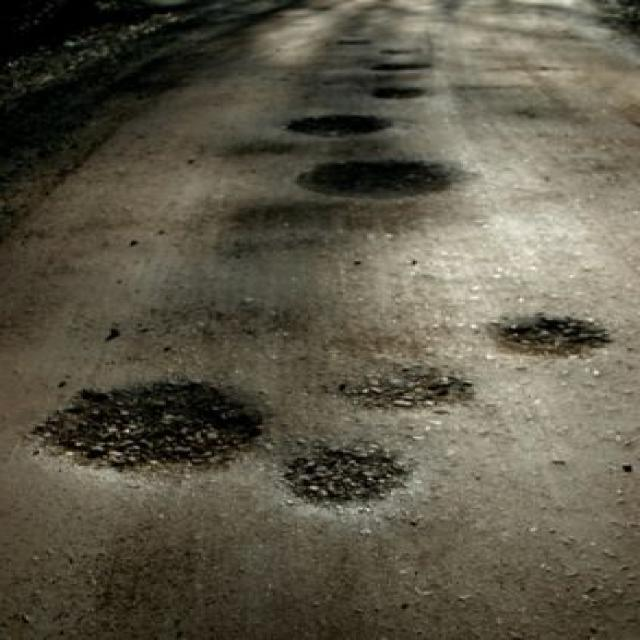Pothole: (29, 363, 280, 474), (286, 152, 468, 205), (485, 306, 625, 358), (277, 107, 400, 140)
